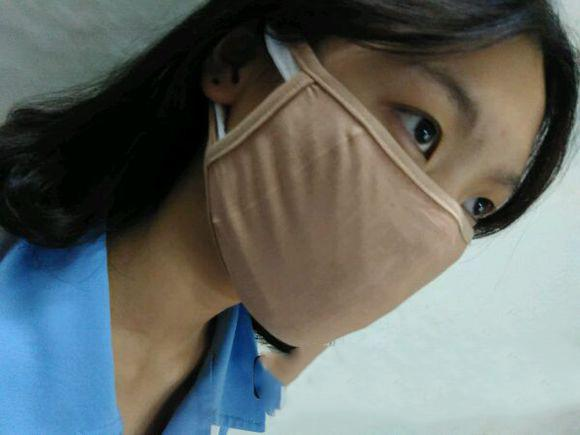OK: (230, 62, 504, 351)
